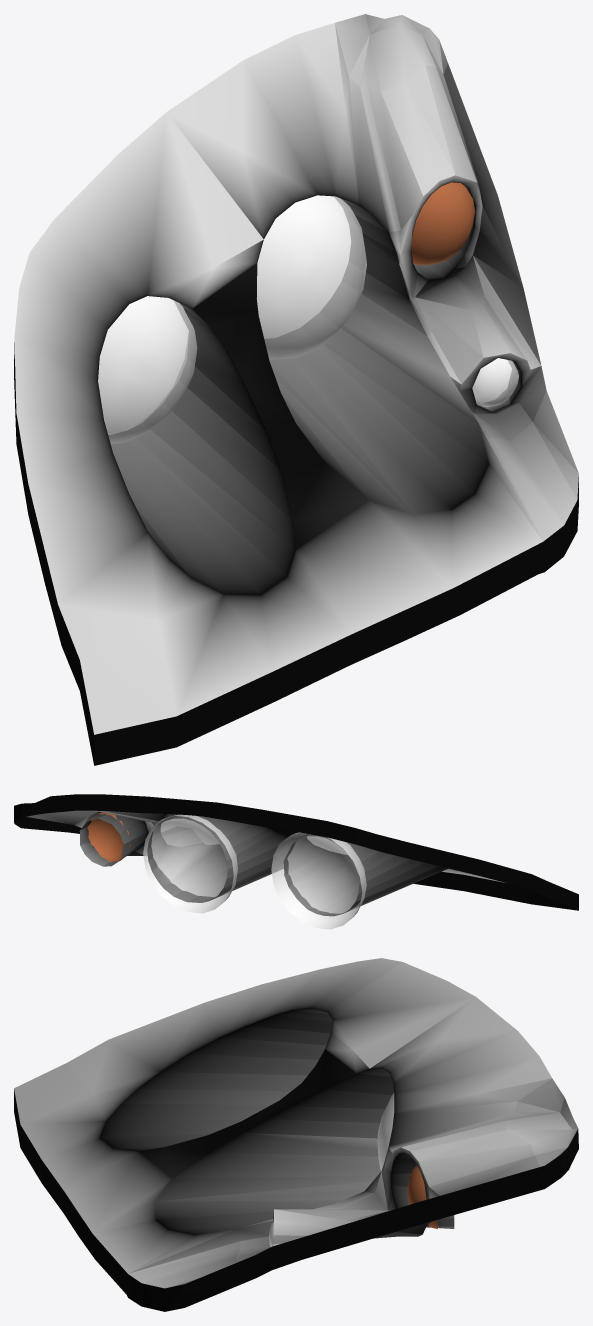
The model's file is Noble_600.fbx.
3 views of the same model, one above another, from view 1: azimuth 30°, elevation 25°; view 2: azimuth 150°, elevation 25°; view 3: azimuth 270°, elevation 25° (orthographic). The views are drawn at different scales.
Parts seen in each view (by area): view 1: Noble_600; view 2: Noble_600; view 3: Noble_600.
Part boxes in pixels (x1,y1,x2,y2): Noble_600: (14, 14, 578, 765); Noble_600: (14, 794, 578, 929); Noble_600: (14, 958, 578, 1311).
Size of the model in its own units: 0.6075 by 0.2862 by 0.5571.
